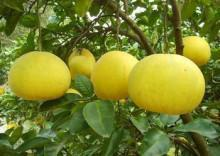apple: (128, 53, 205, 115), (8, 51, 72, 100)
